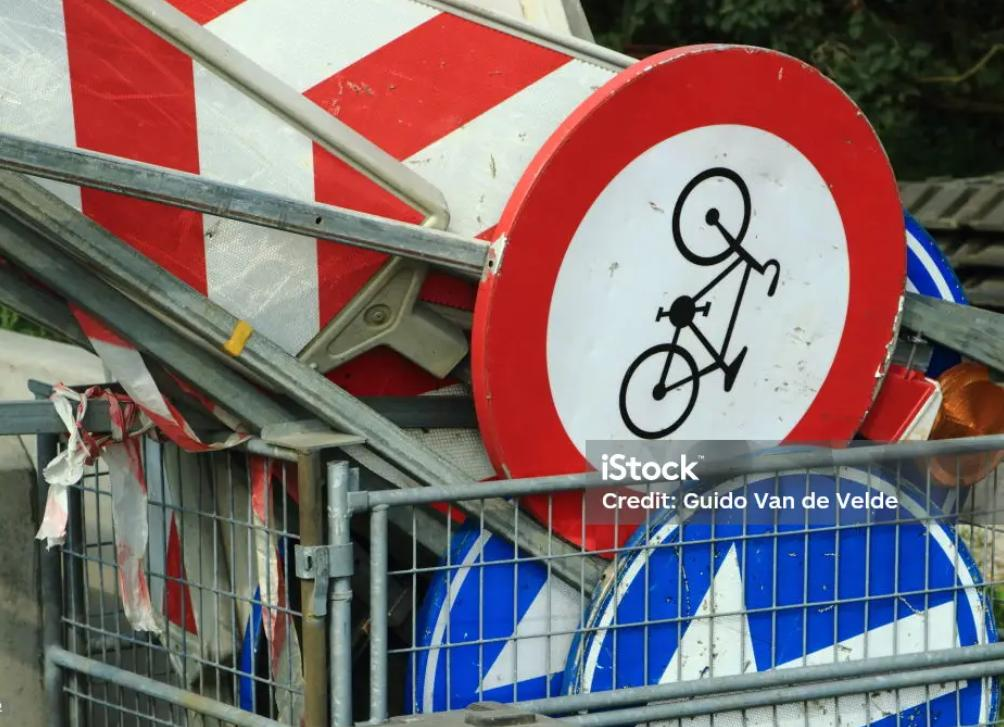obstructed_road_sign: (472, 46, 903, 559), (0, 0, 443, 363), (569, 462, 999, 727), (164, 0, 626, 242)
